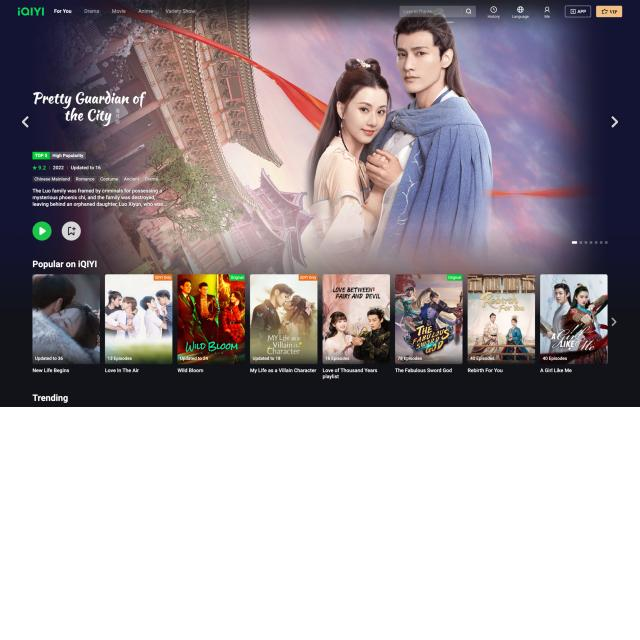input: (398, 4, 478, 18)
logo: (16, 4, 46, 19)
navigation: (50, 5, 200, 18)
